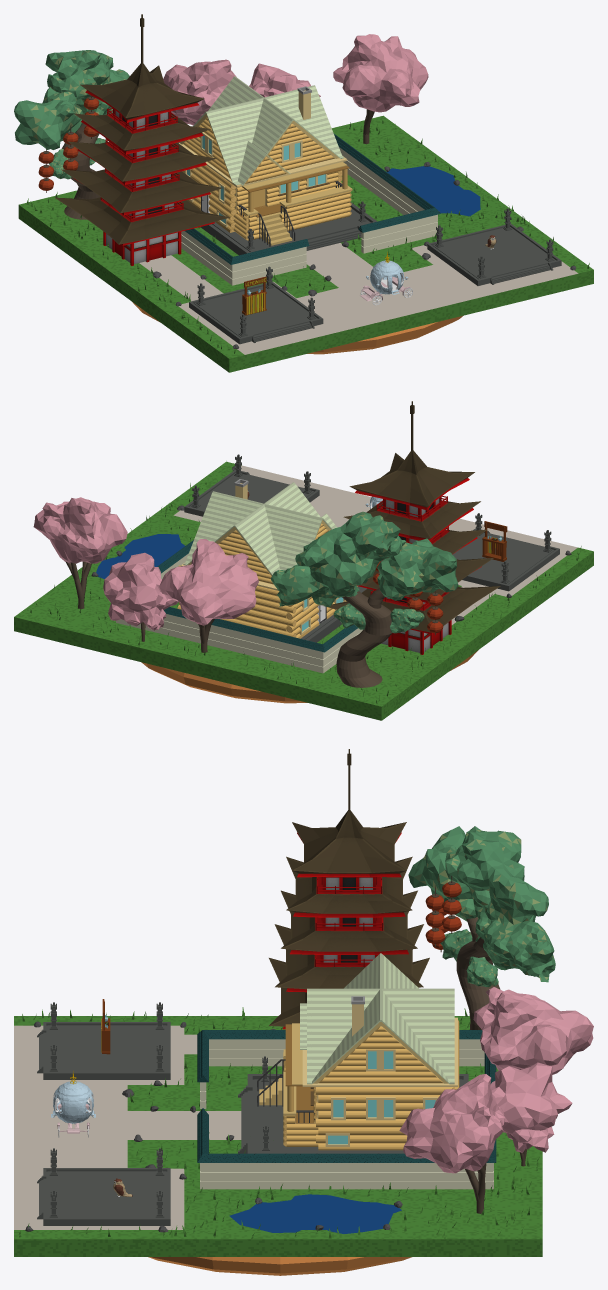
3 renders of one model, top to bottom at view 1: azimuth 30°, elevation 25°; view 2: azimuth 150°, elevation 25°; view 3: azimuth 270°, elevation 25°, orthographic. The views are drawn at different scales.
Visible parts, largest first — view 1: Cube.005, Cube.1516, UNDERGROUND_PIZZA, VEHICLES_FANTASY_CARRIAGE, OBJRANDOM_LEMONADE_STAND; view 2: Cube.005, Cube.1516, UNDERGROUND_PIZZA, OBJRANDOM_LEMONADE_STAND; view 3: Cube.005, Cube.1516, UNDERGROUND_PIZZA, VEHICLES_FANTASY_CARRIAGE.
Part boxes in pixels (left/top/right/bottom): Cube.005: left=14, top=14, right=593, bottom=372; Cube.1516: left=177, top=76, right=352, bottom=246; UNDERGROUND_PIZZA: left=132, top=302, right=463, bottom=354; VEHICLES_FANTASY_CARRIAGE: left=360, top=252, right=412, bottom=305; OBJRANDOM_LEMONADE_STAND: left=242, top=276, right=266, bottom=315; Cube.005: left=14, top=401, right=593, bottom=720; Cube.1516: left=177, top=479, right=357, bottom=638; UNDERGROUND_PIZZA: left=141, top=650, right=478, bottom=703; OBJRANDOM_LEMONADE_STAND: left=482, top=521, right=507, bottom=561; Cube.005: left=14, top=749, right=593, bottom=1256; Cube.1516: left=257, top=953, right=459, bottom=1150; UNDERGROUND_PIZZA: left=148, top=1257, right=411, bottom=1275; VEHICLES_FANTASY_CARRIAGE: left=51, top=1071, right=95, bottom=1137.
Size of the model in its own units: 4528 by 2902 by 4389.
48 materials, 6 textured.
